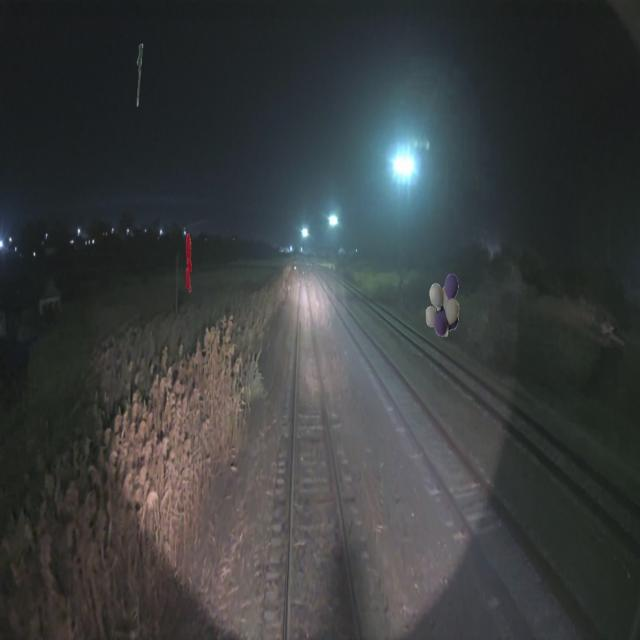balloon: (426, 272, 459, 336)
floating object: (136, 42, 143, 106), (186, 230, 193, 294)
